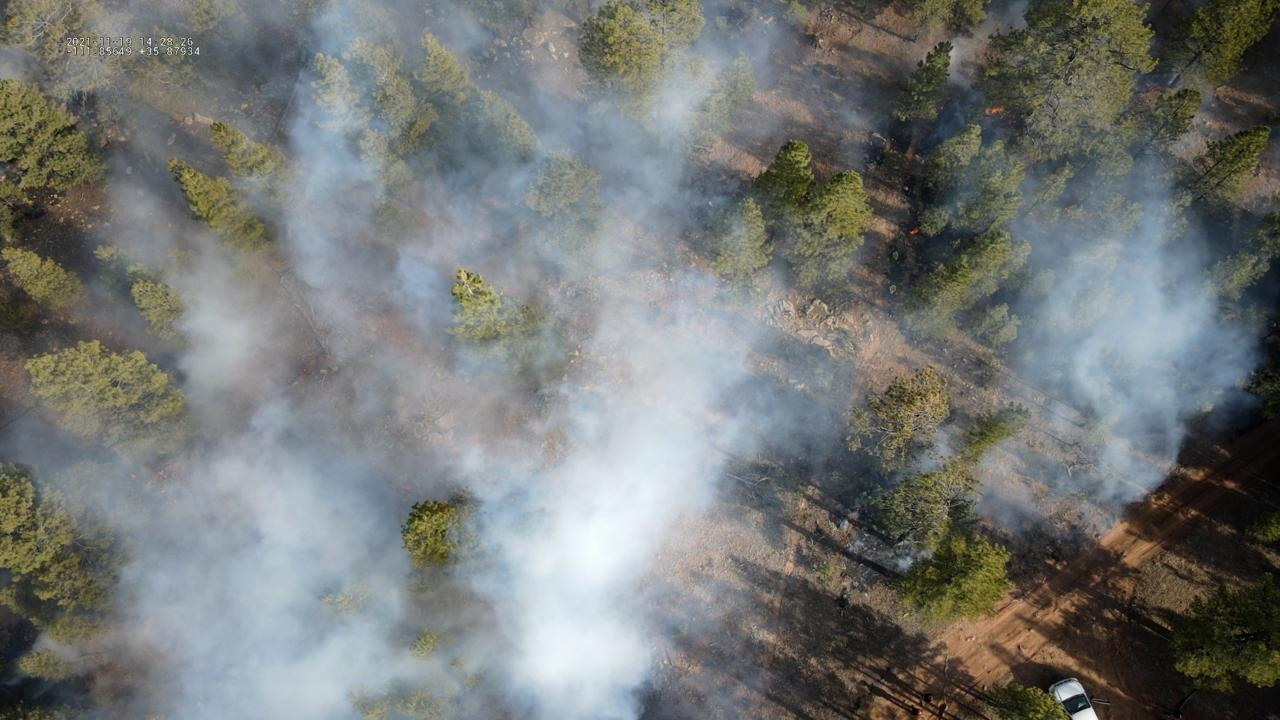fire: (983, 105, 1006, 116), (46, 176, 57, 188), (907, 226, 920, 235)
smoke: (0, 0, 1280, 720)
